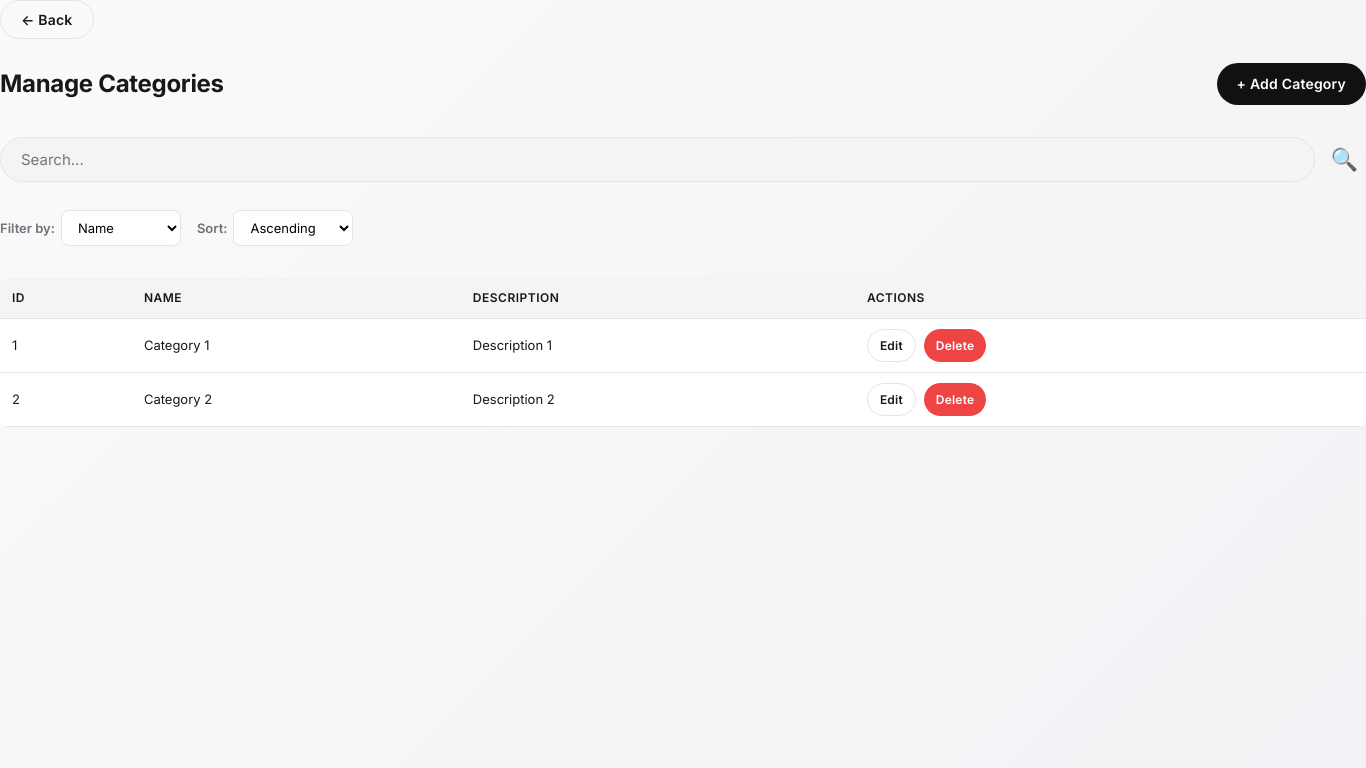
Test case: AdminCategories › Delete › should show error when delete fails
The width and height of the screenshot is (1366, 768).
Step 1. Click the button "Delete" in the row of "Category 1" → click(955, 345), box [924,329,986,362]
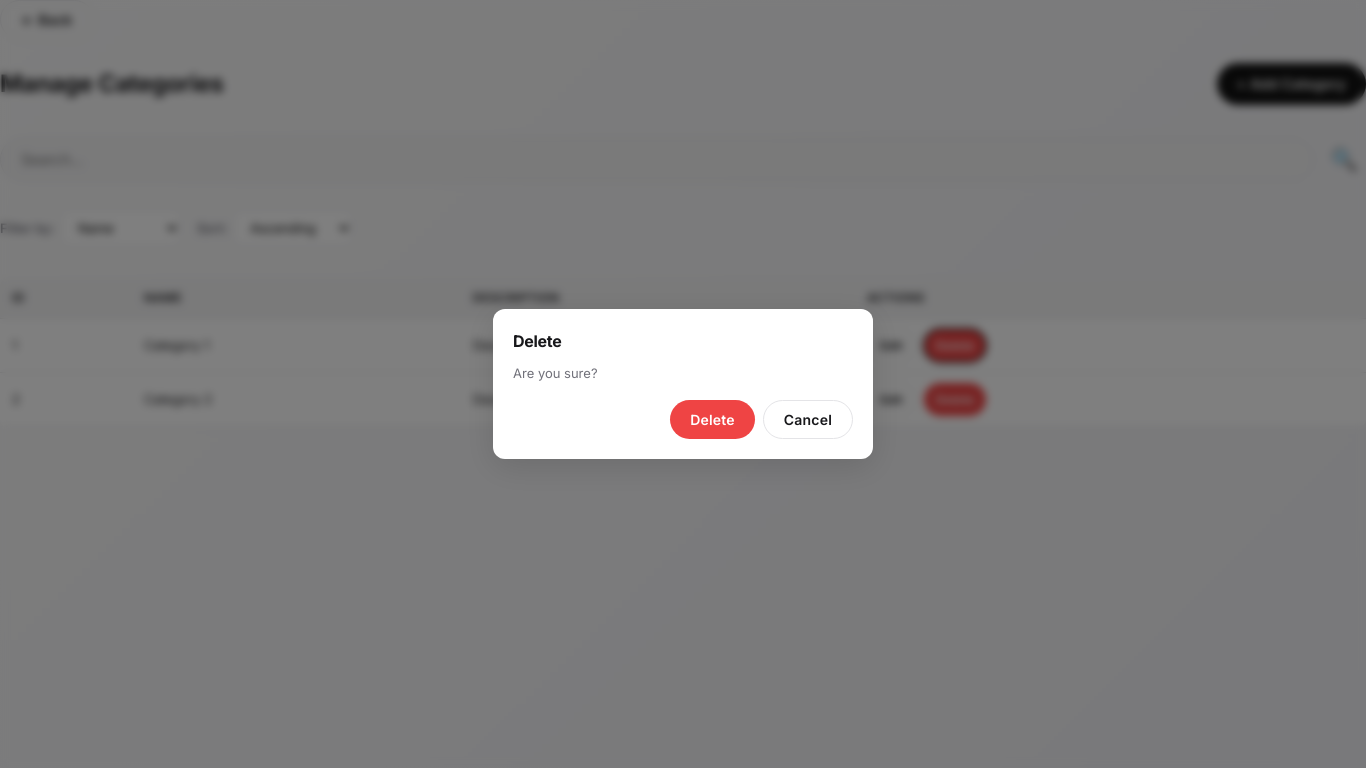
Step 2. Click the button with class "btn-danger" showing "Delete" → click(712, 419), box [670,400,755,439]
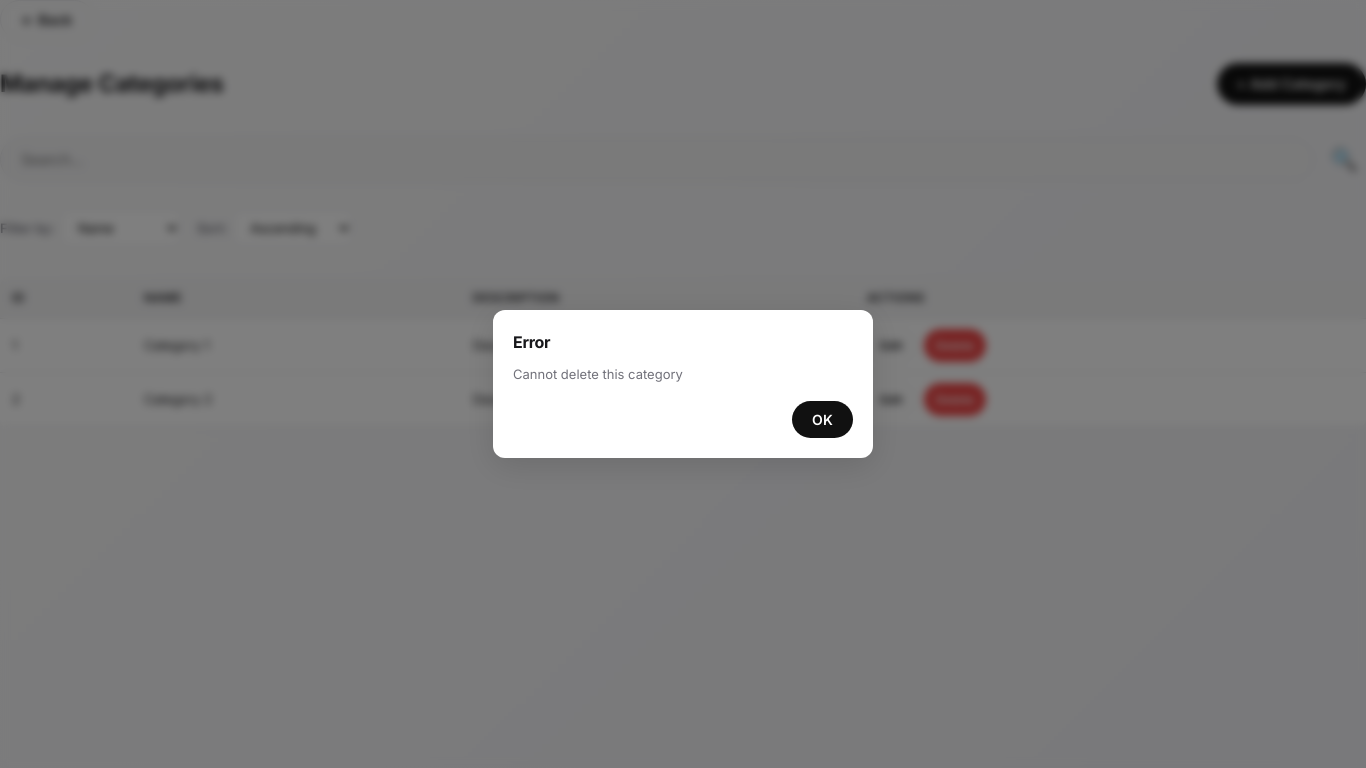
Check: the text "Cannot delete this category" is shown, box [513,366,683,382]
